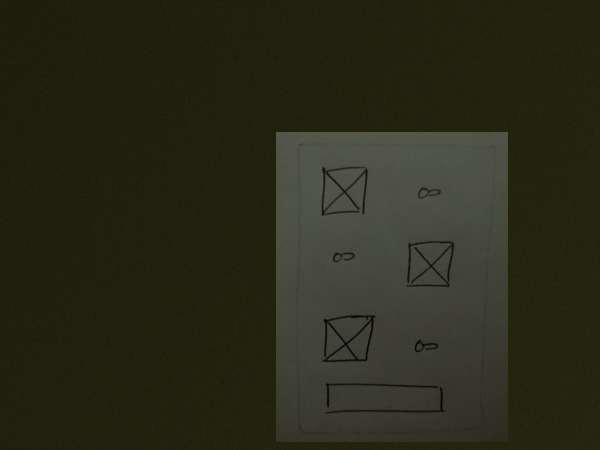image: (400, 236, 459, 291), (318, 164, 372, 219), (320, 314, 377, 366)
switch: (407, 333, 444, 356), (327, 245, 361, 269), (412, 179, 445, 203)
text_input: (321, 379, 449, 420)
